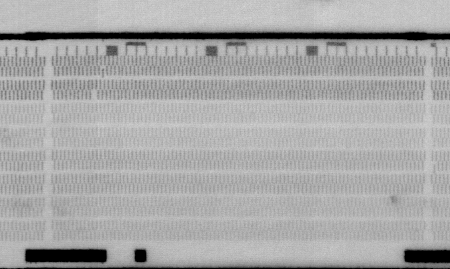Broken hole: (88, 88, 100, 100)
Oblique printing: (97, 64, 110, 79), (430, 162, 441, 174)
